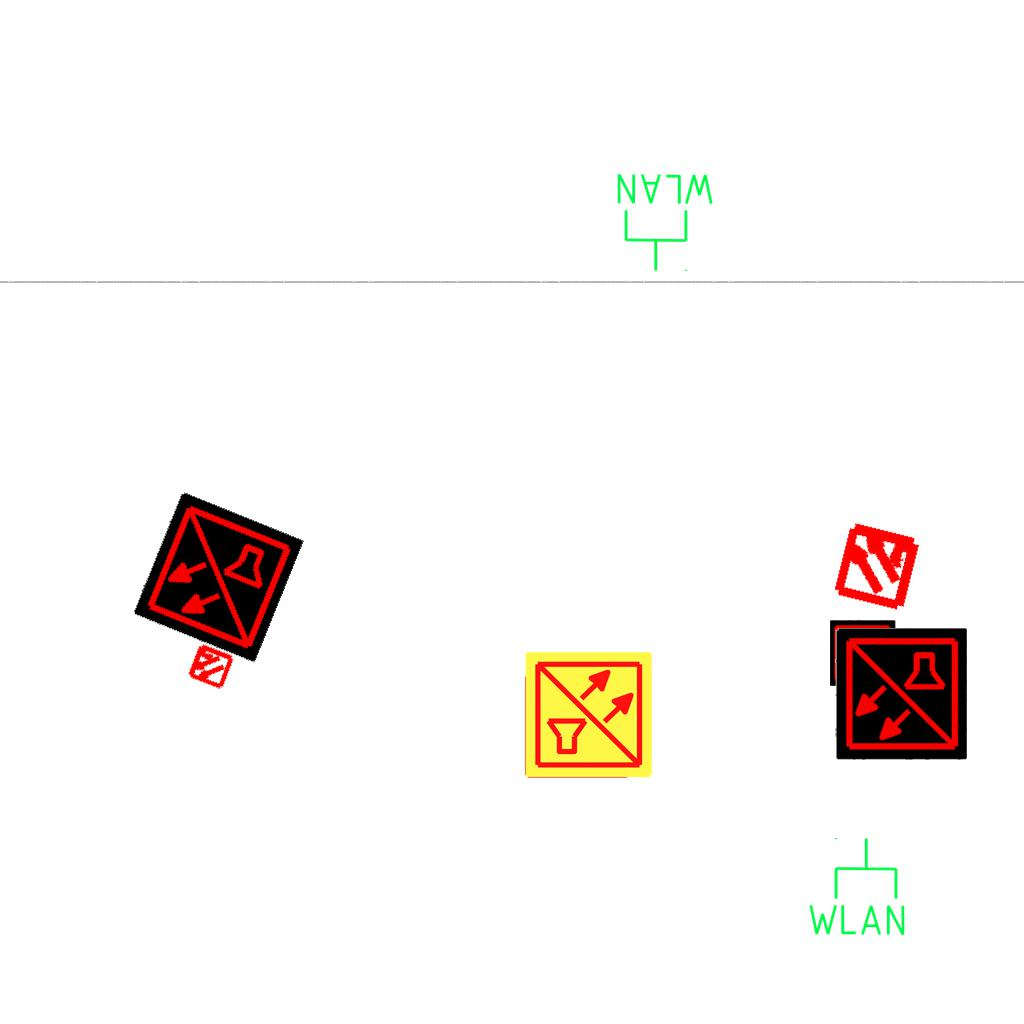OKW_Multisensormelder_(Kombination_optischer_Rauch-Kahlenmonoxid_Waerme-Melder): (132, 491, 304, 663), (523, 649, 655, 781), (835, 628, 967, 760), (830, 620, 896, 686)
OT_Multisensormelder_(Kombination_RMO_WMD): (809, 496, 946, 633), (173, 629, 247, 703)
WLAN: (804, 835, 909, 939), (613, 170, 718, 274)
